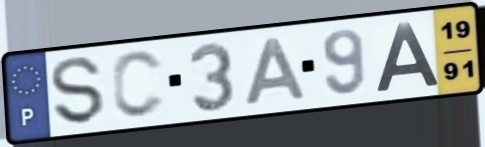3: (186, 39, 236, 116)
9: (321, 27, 366, 98)
A: (372, 20, 442, 95), (242, 35, 309, 108)
C: (109, 48, 169, 121)
S: (48, 55, 107, 127)
